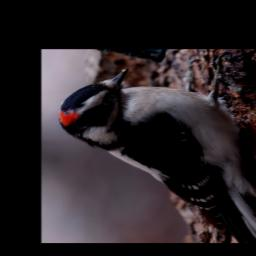Woodpecker: (54, 64, 256, 241)
